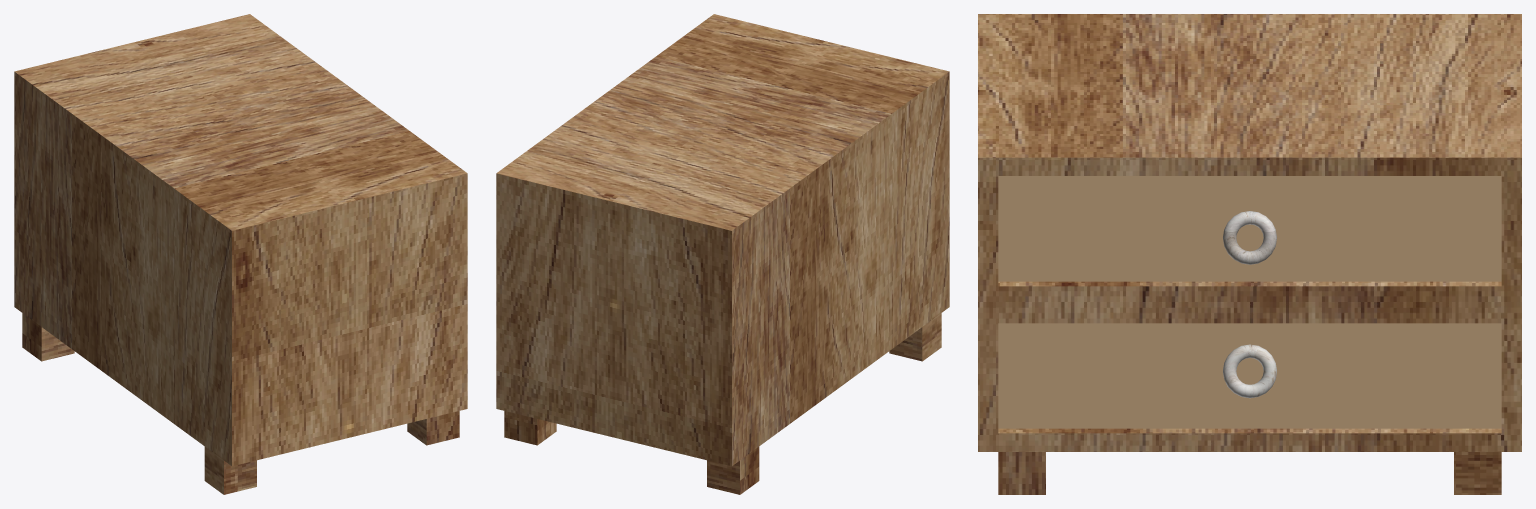
The model's file is PSX Nightstand(N) .fbx.
3 renders of one model, left to right at view 1: azimuth 30°, elevation 25°; view 2: azimuth 150°, elevation 25°; view 3: azimuth 270°, elevation 25°, orthographic. The views are drawn at different scales.
Parts seen in each view (by area): view 1: polySurface3; view 2: polySurface3; view 3: polySurface3, polySurface2, pTorus3.
Boxes of the visible parts, x1,y1,x2,y2 form: polySurface3: (14,14,467,494); polySurface3: (496,14,949,494); polySurface3: (978,14,1521,494); polySurface2: (998,176,1501,428); pTorus3: (1223,211,1276,398).
Bounding box in the file's own units: 5.17 × 5.47 × 8.
Materials: 3 (2 with a texture image).
